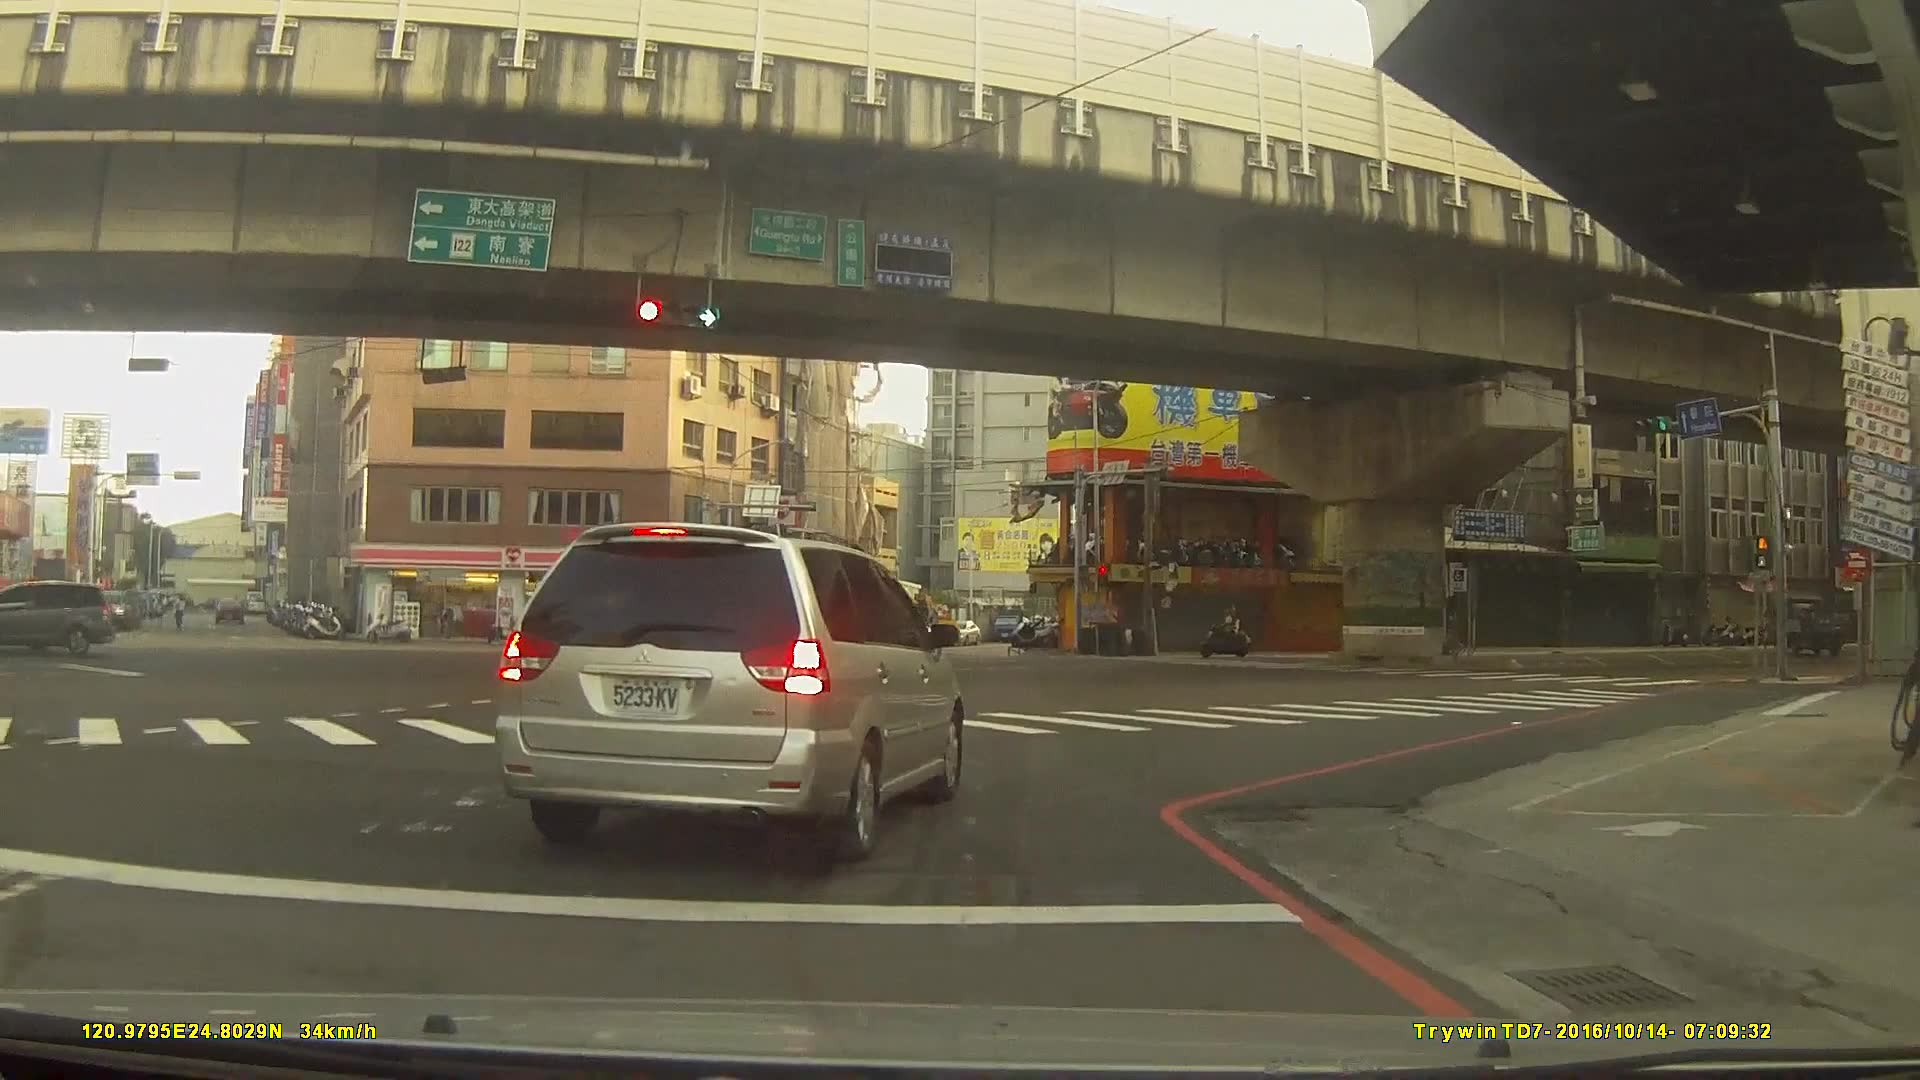rider: (1198, 603, 1251, 657)
vehicle: (492, 519, 964, 860), (0, 577, 118, 655), (1770, 592, 1848, 656), (856, 619, 921, 657), (543, 606, 605, 633), (209, 594, 244, 624)
